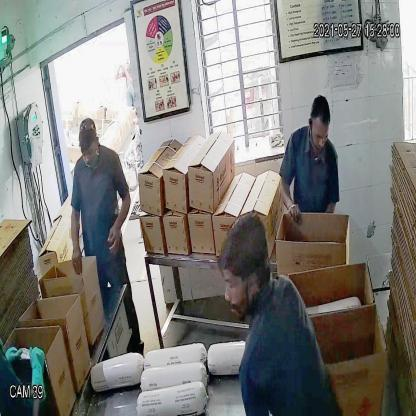no_goggles: (221, 274, 255, 299), (309, 127, 330, 145), (77, 143, 99, 159)
